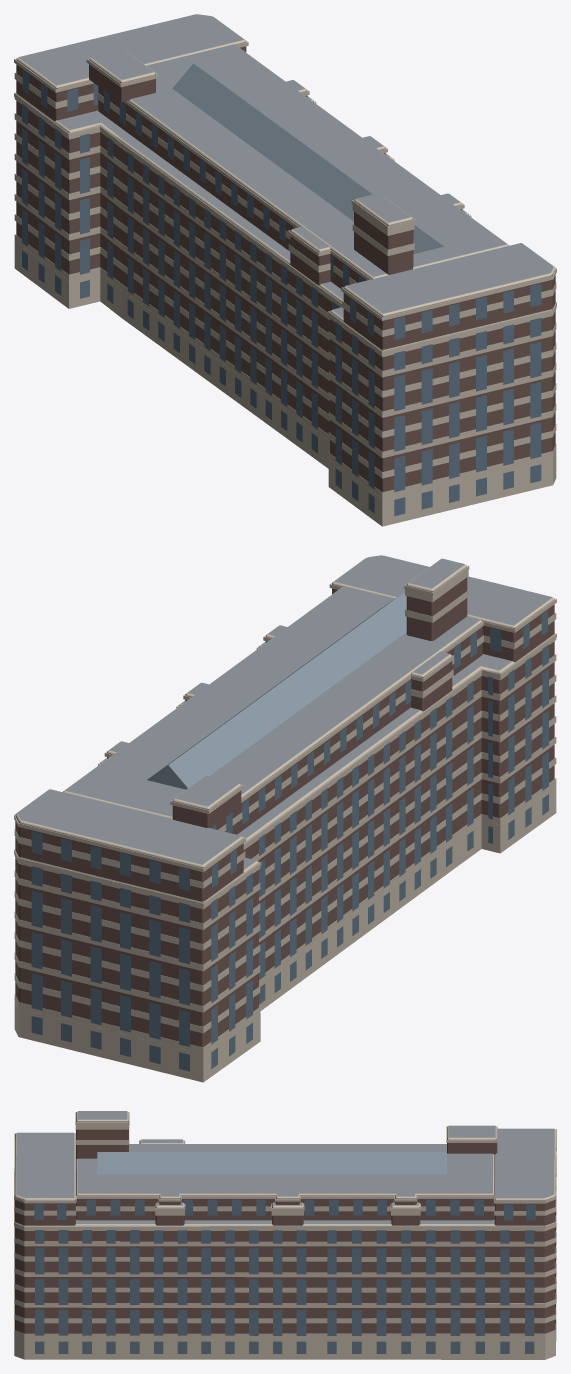
File: amsterdam-de-bazel.glb
3 views of the same model, one above another, from view 1: azimuth 30°, elevation 25°; view 2: azimuth 150°, elevation 25°; view 3: azimuth 270°, elevation 25° (orthographic). The views are drawn at different scales.
Visible parts, largest first — view 1: De Bazel; view 2: De Bazel; view 3: De Bazel.
Boxes of the visible parts, x1,y1,x2,y2 form: De Bazel: (14,14,556,526); De Bazel: (14,555,556,1082); De Bazel: (14,1111,556,1359).
Size of the model in its own units: 32.12 by 41.5 by 103.
